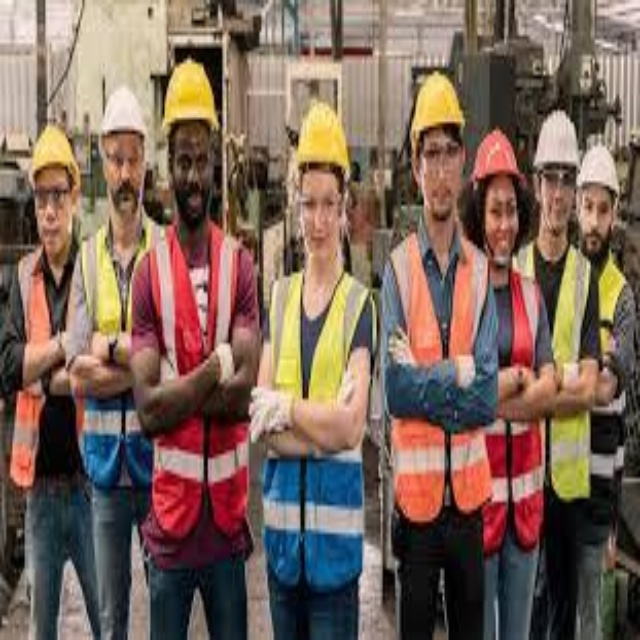Guantes: (249, 382, 297, 435), (329, 370, 370, 420), (215, 331, 234, 388)
